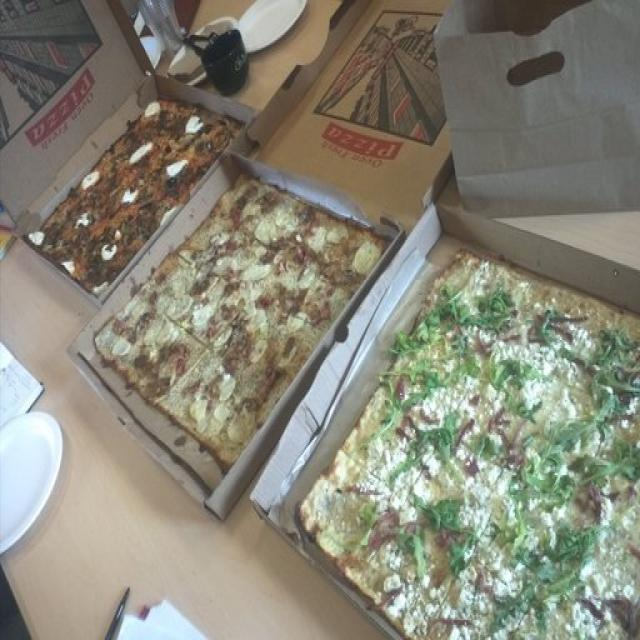Ham: (371, 505, 397, 544), (611, 599, 637, 630), (579, 491, 603, 518), (488, 412, 510, 434), (582, 599, 605, 619), (548, 324, 573, 339), (477, 329, 489, 356), (396, 369, 405, 402), (475, 573, 489, 592), (543, 315, 590, 320)
Pizza: (298, 258, 640, 640), (95, 183, 398, 475), (29, 102, 238, 292)
Rucola: (388, 418, 459, 488), (553, 393, 613, 442), (582, 446, 638, 486), (524, 454, 566, 501), (397, 530, 430, 584), (594, 374, 632, 410), (424, 497, 466, 529), (534, 564, 571, 596), (602, 330, 633, 368), (482, 291, 512, 328), (552, 532, 598, 556), (407, 365, 455, 387), (494, 360, 535, 384), (445, 289, 470, 327), (530, 476, 568, 501), (448, 540, 471, 567), (388, 398, 404, 426)
